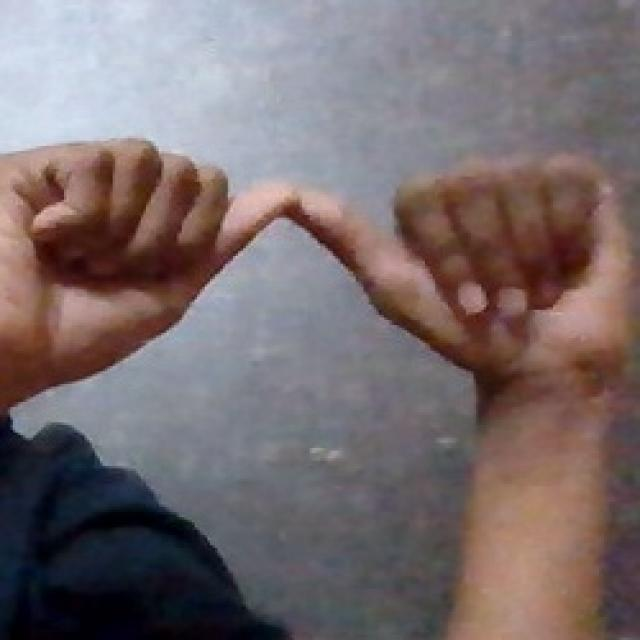Alphabet-A: (8, 133, 625, 384)
